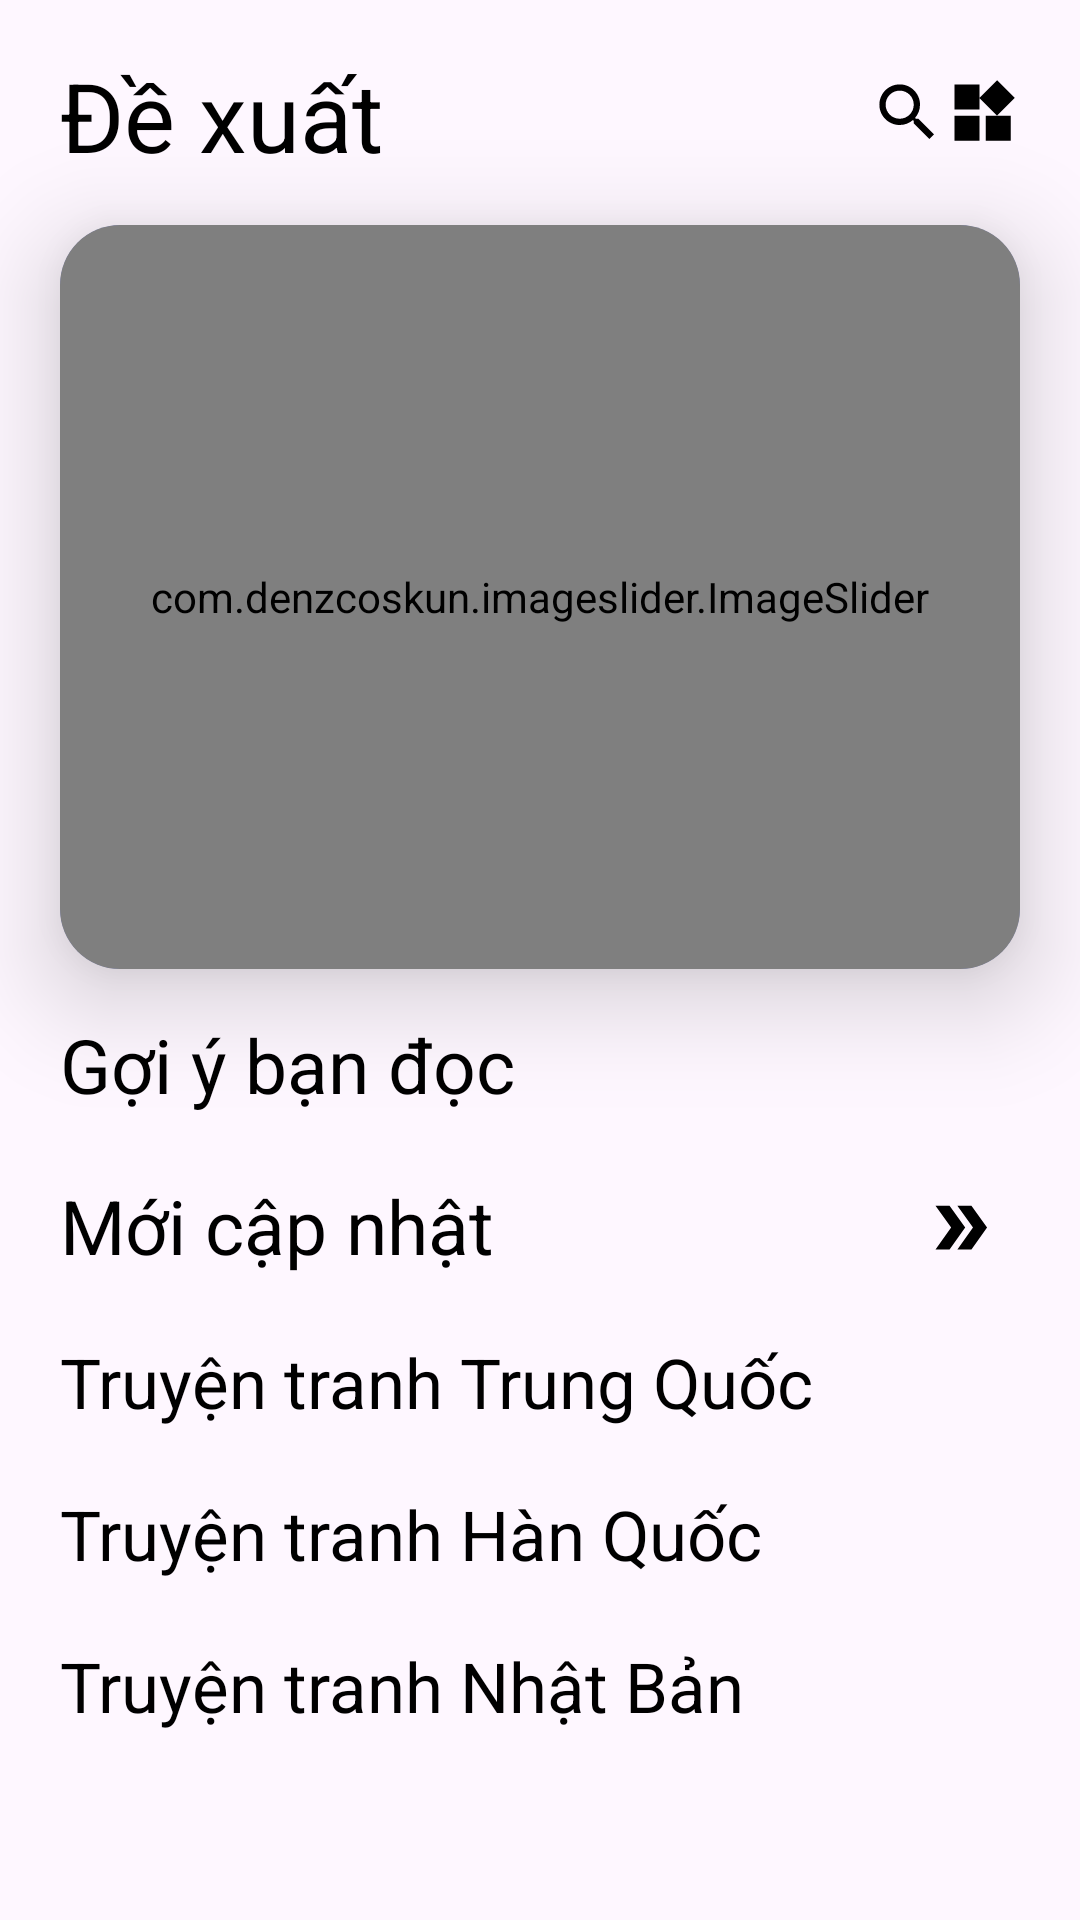

Point at icon controls on the screen. Image size 1080 x 1920, points as [x,y].
category: [984,110]
search: [906,111]
